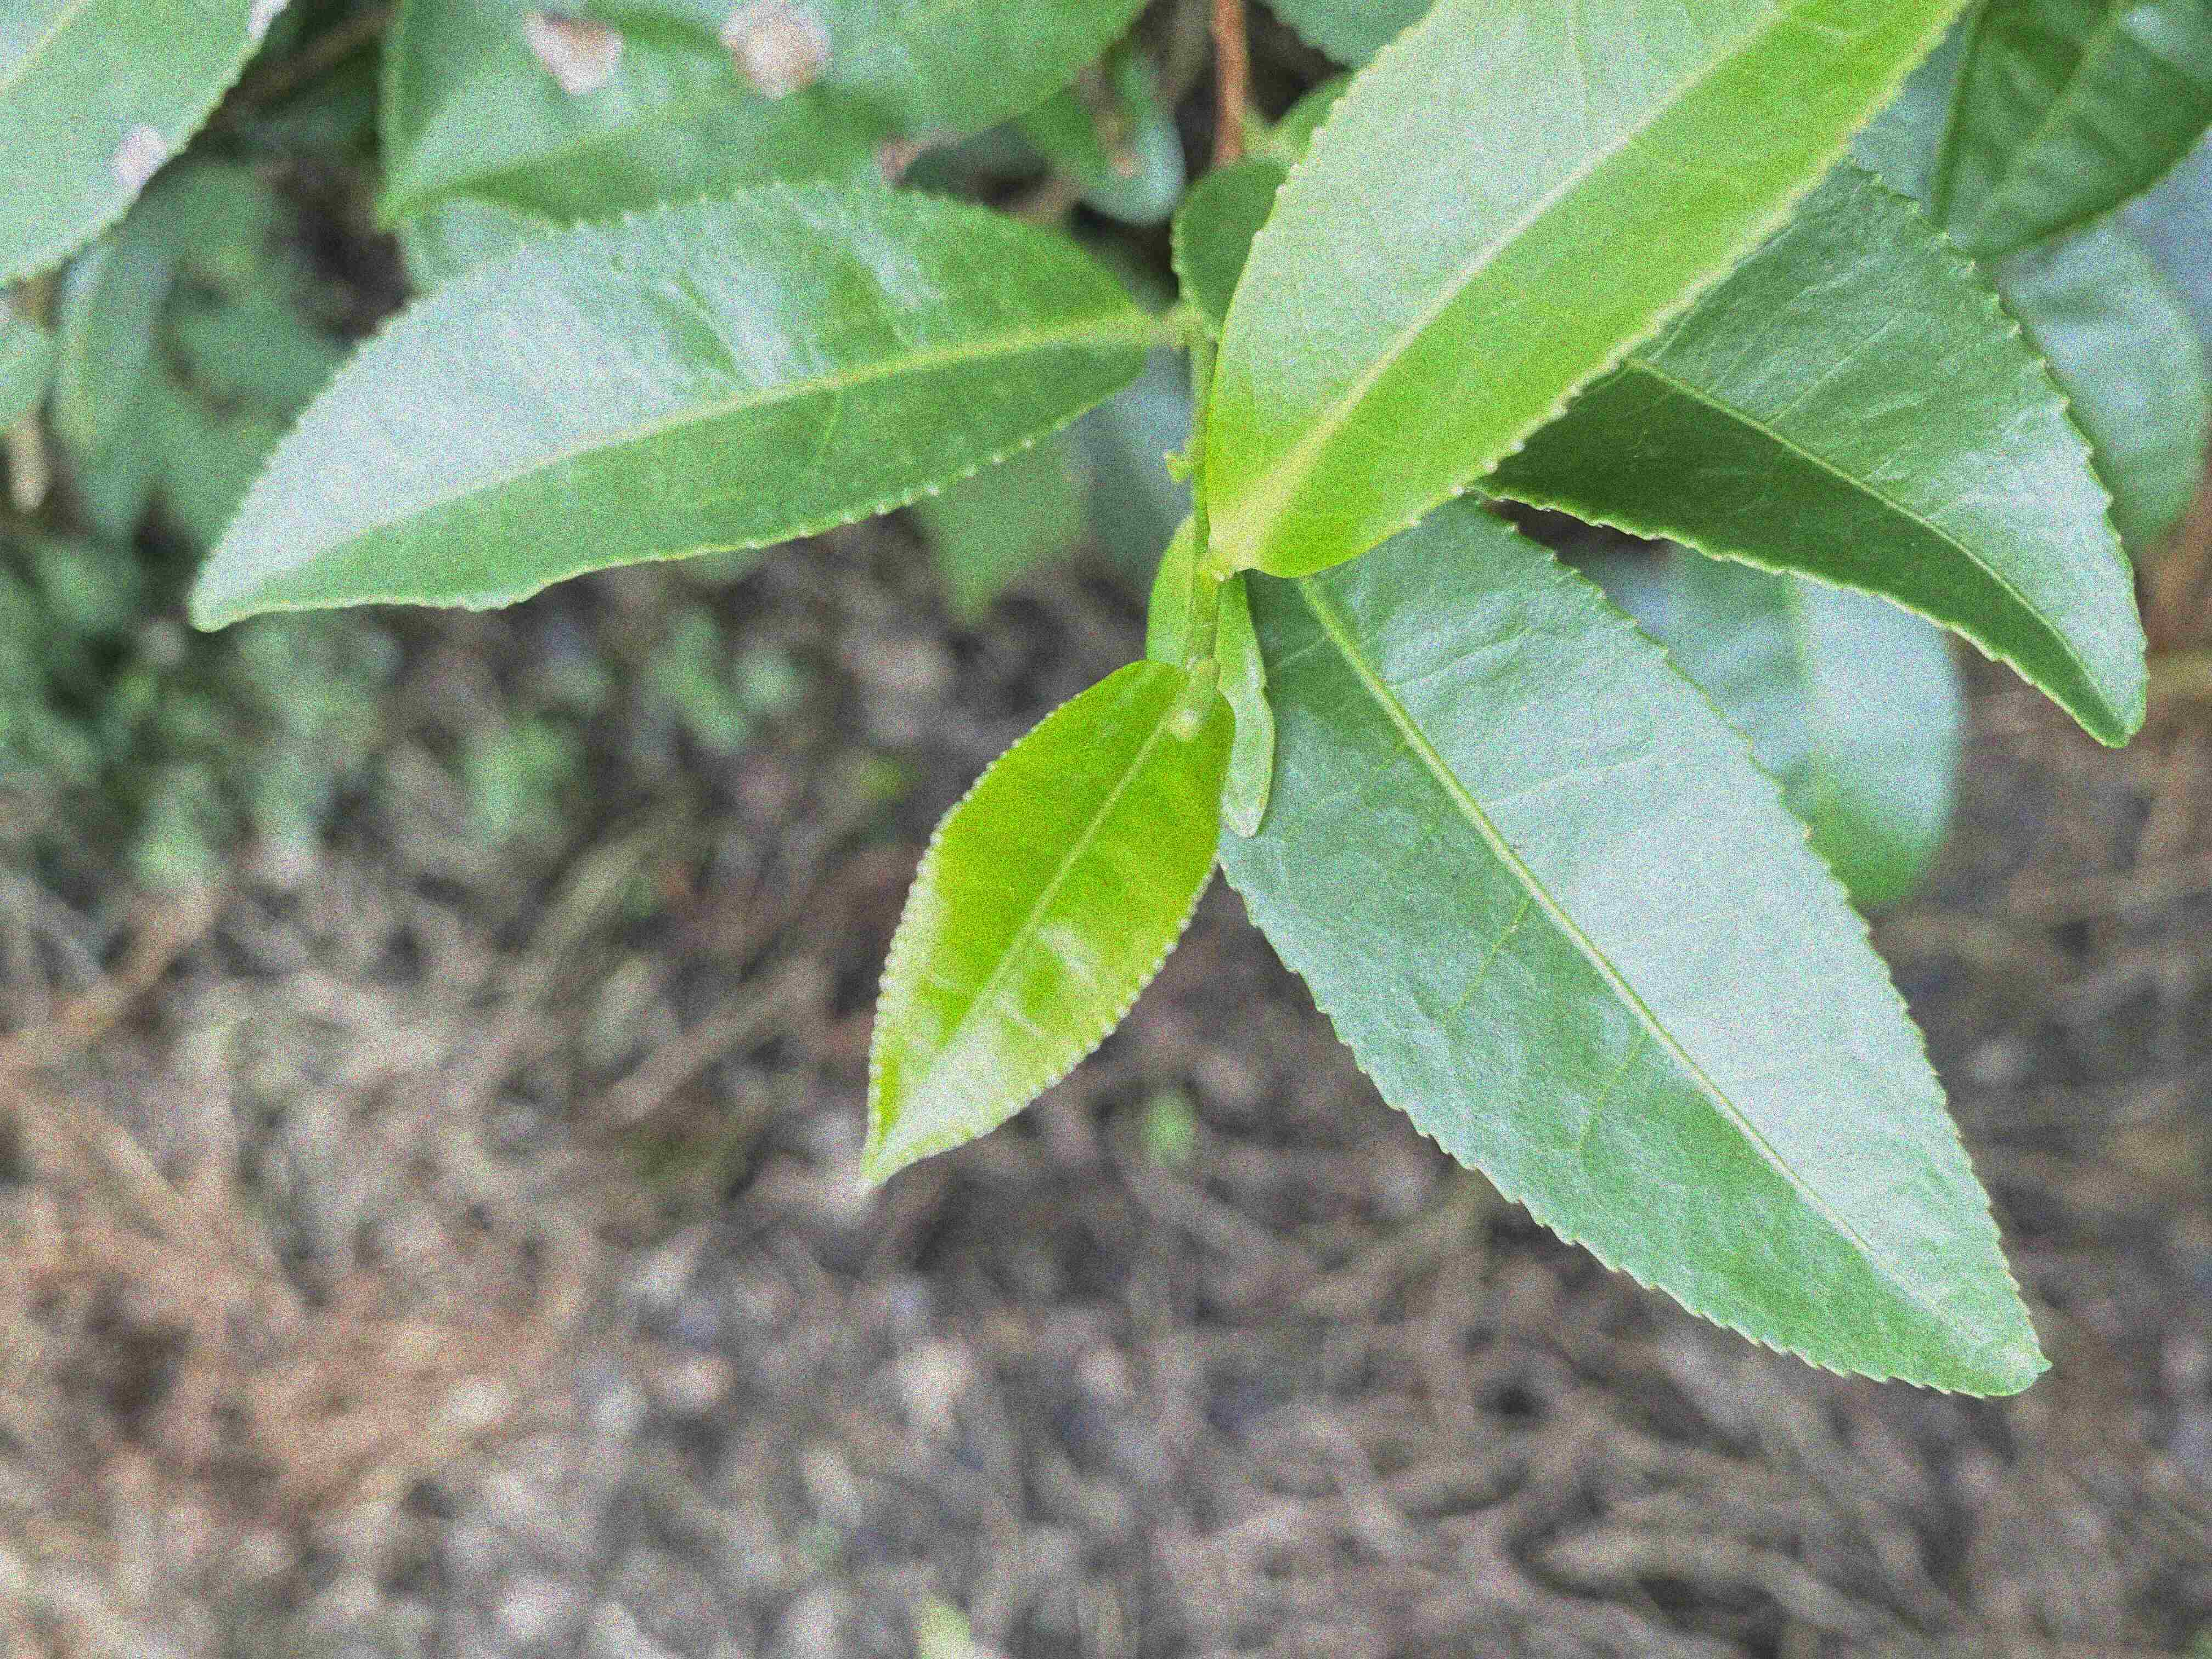healthy: (1155, 505, 2052, 1398), (186, 176, 1151, 636), (1205, 3, 1970, 579), (852, 662, 1235, 1199)
